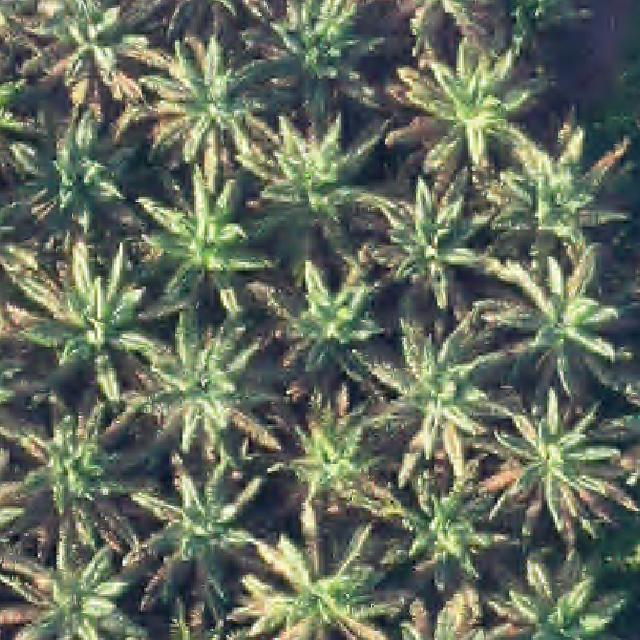oilpalm: (128, 454, 282, 618), (475, 239, 633, 395), (390, 24, 552, 173), (480, 389, 632, 544), (360, 317, 499, 483), (0, 394, 140, 555), (116, 316, 269, 463), (16, 235, 151, 399), (239, 99, 383, 246), (0, 104, 139, 246), (476, 119, 615, 260), (134, 36, 276, 171), (363, 169, 490, 303), (256, 254, 382, 388), (264, 395, 396, 522), (136, 174, 261, 305), (231, 547, 405, 640), (10, 0, 158, 108), (246, 0, 374, 119), (382, 474, 494, 603)
